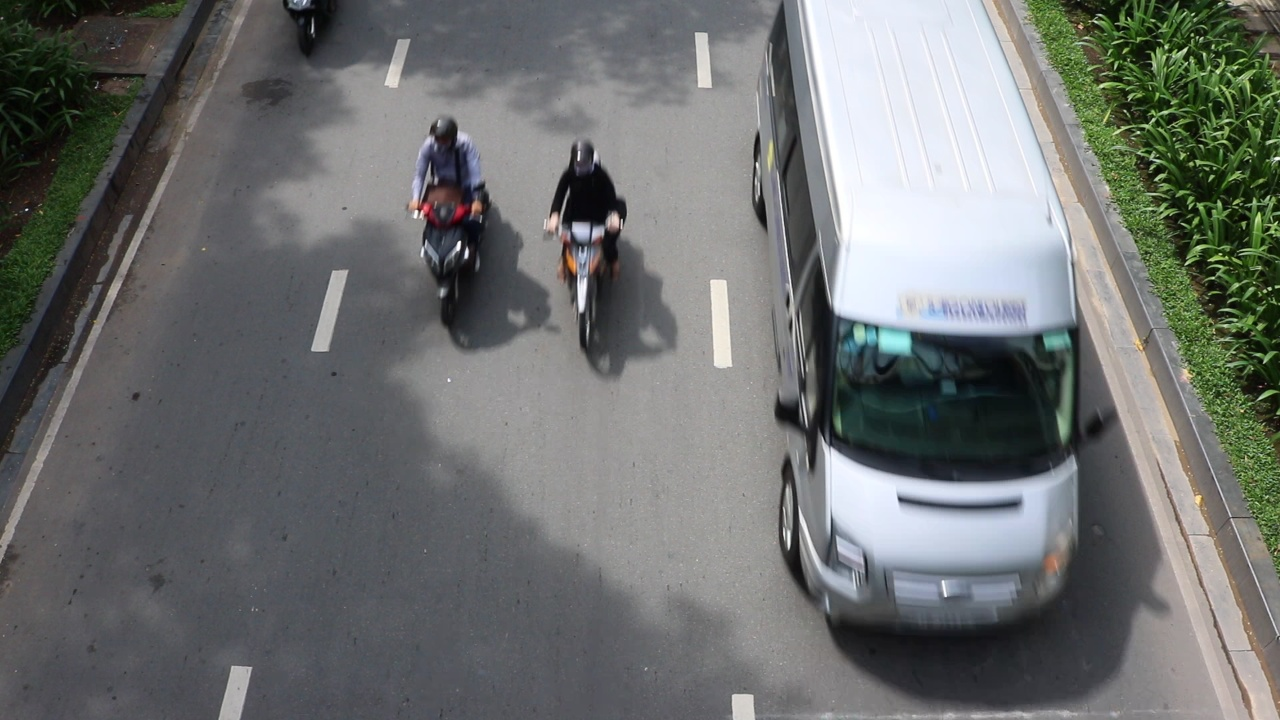car: (749, 4, 1085, 636)
motorcycle: (409, 183, 489, 336), (552, 219, 622, 350), (279, 0, 339, 57)
